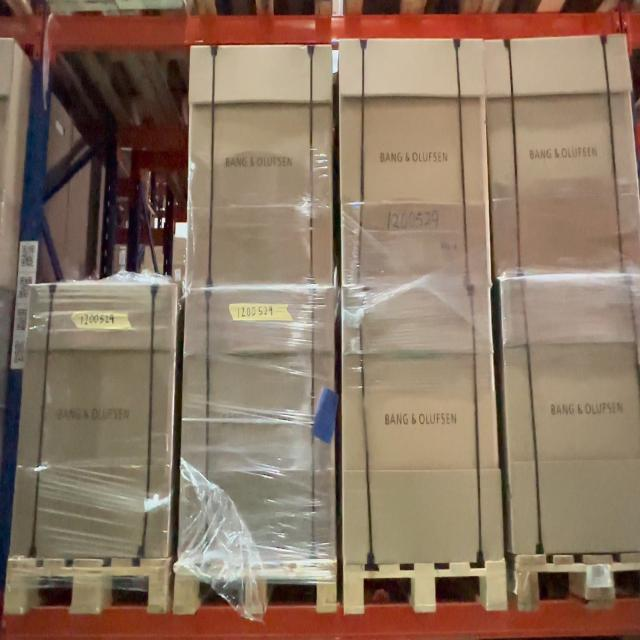box: (345, 278, 502, 556), (181, 289, 335, 563), (17, 284, 168, 561), (188, 48, 336, 283), (490, 39, 626, 286), (515, 278, 640, 545), (343, 46, 481, 282)
